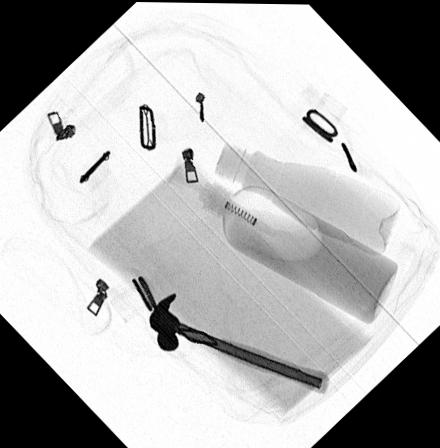Hammer: (147, 292, 330, 393)
